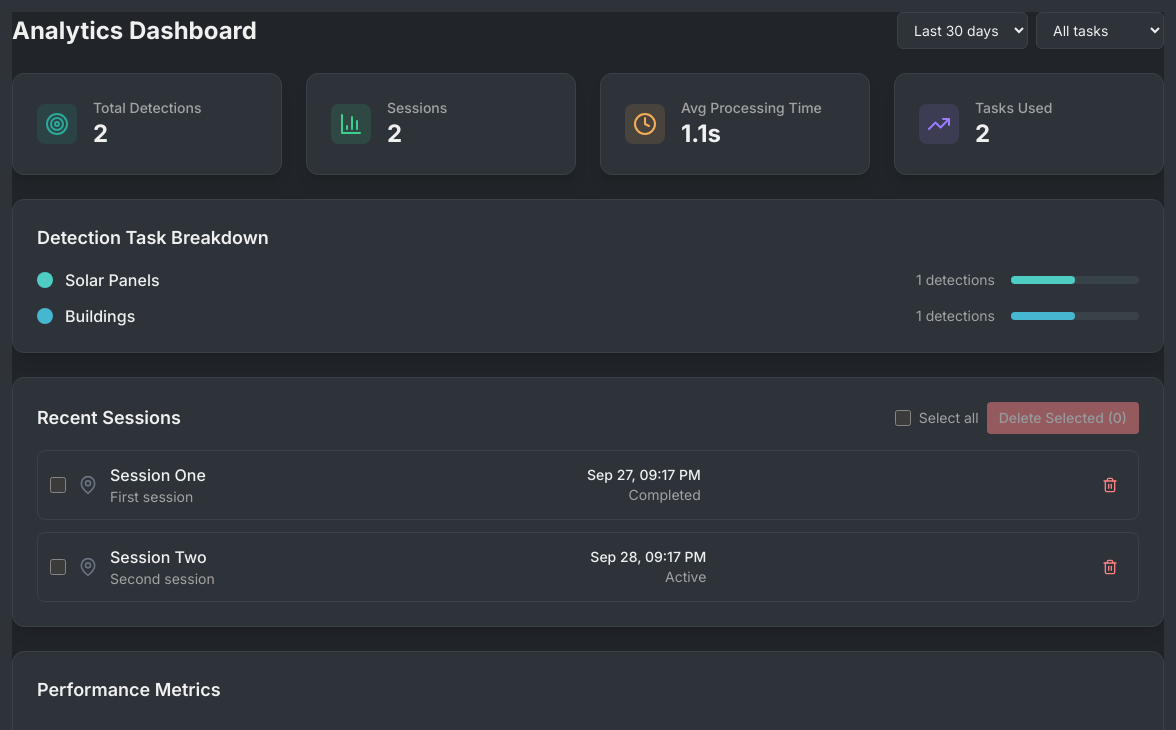
AnalyticsDashboard session deletion › bulk delete failure restores state and shows error
Expected: the text "Session One" is shown, [110,463,206,487]
Step 1. Click the checkbox named "Select all visible sessions" → x=903, y=418, box [895,410,911,426]
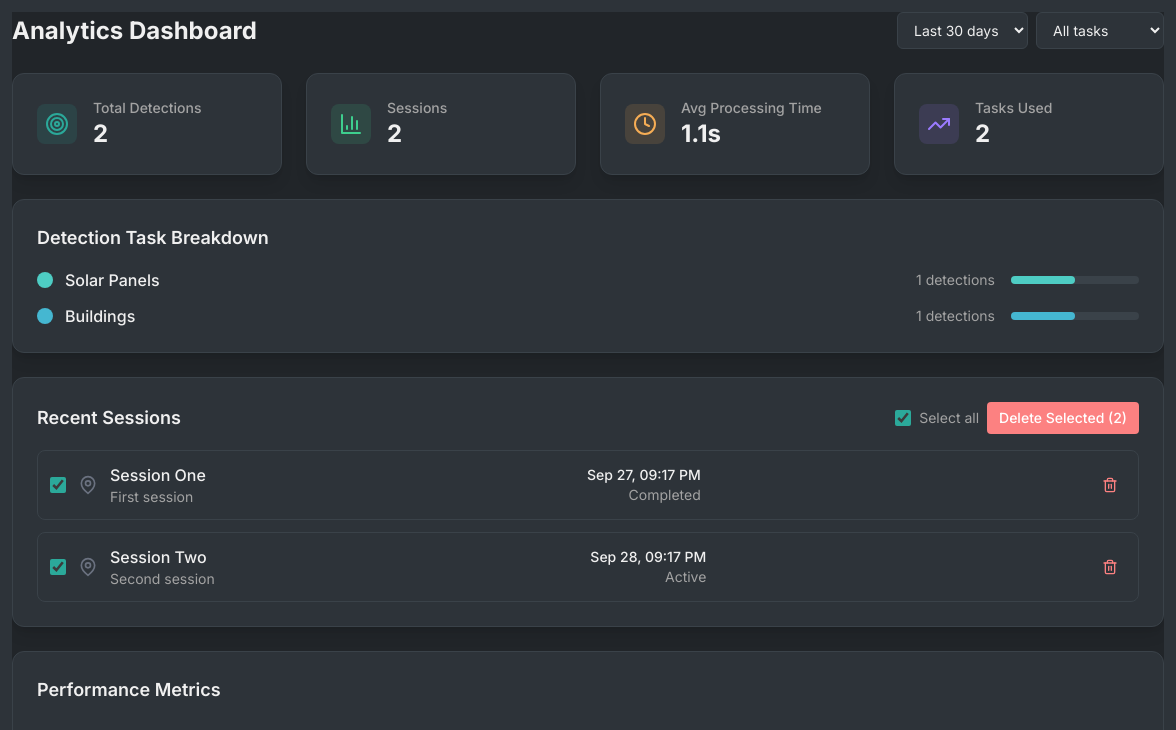
Step 2. Click the button "Delete Selected (2)" → x=1063, y=418, box [987,402,1139,434]
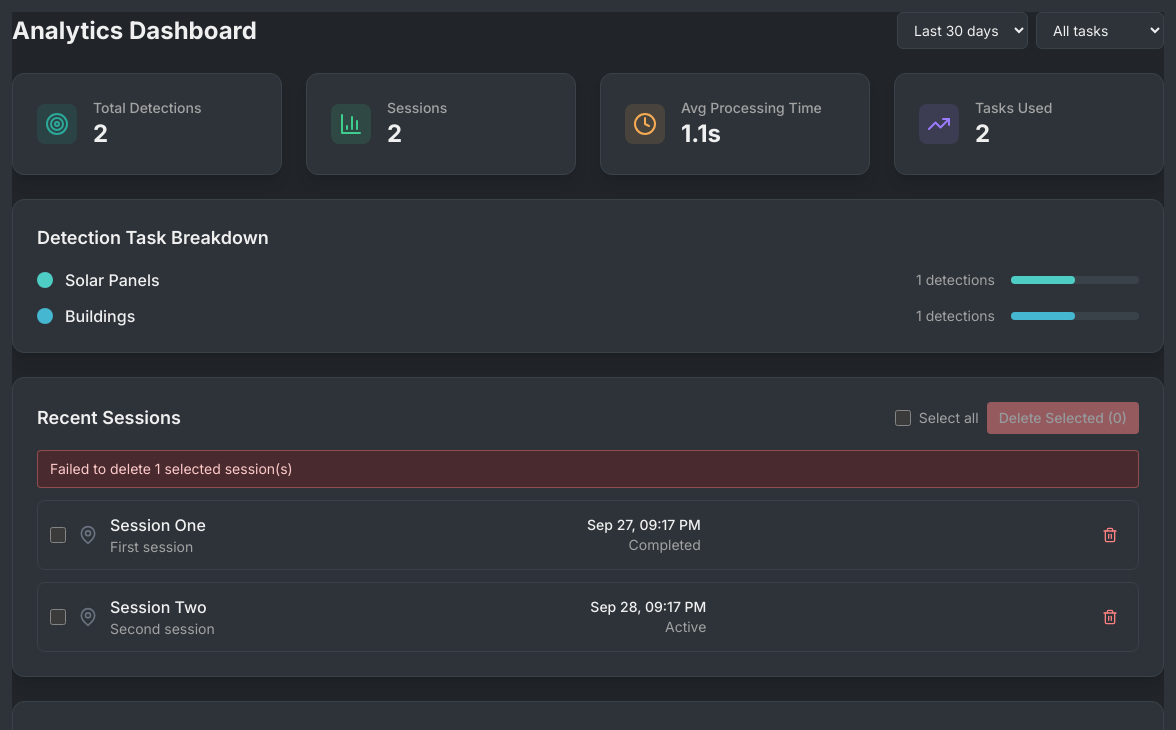
Expected: the text "Session One" is shown, [110,513,206,537]
Expected: the text "Failed to delete 1 selected session(s)" is shown, [37,450,1139,488]
